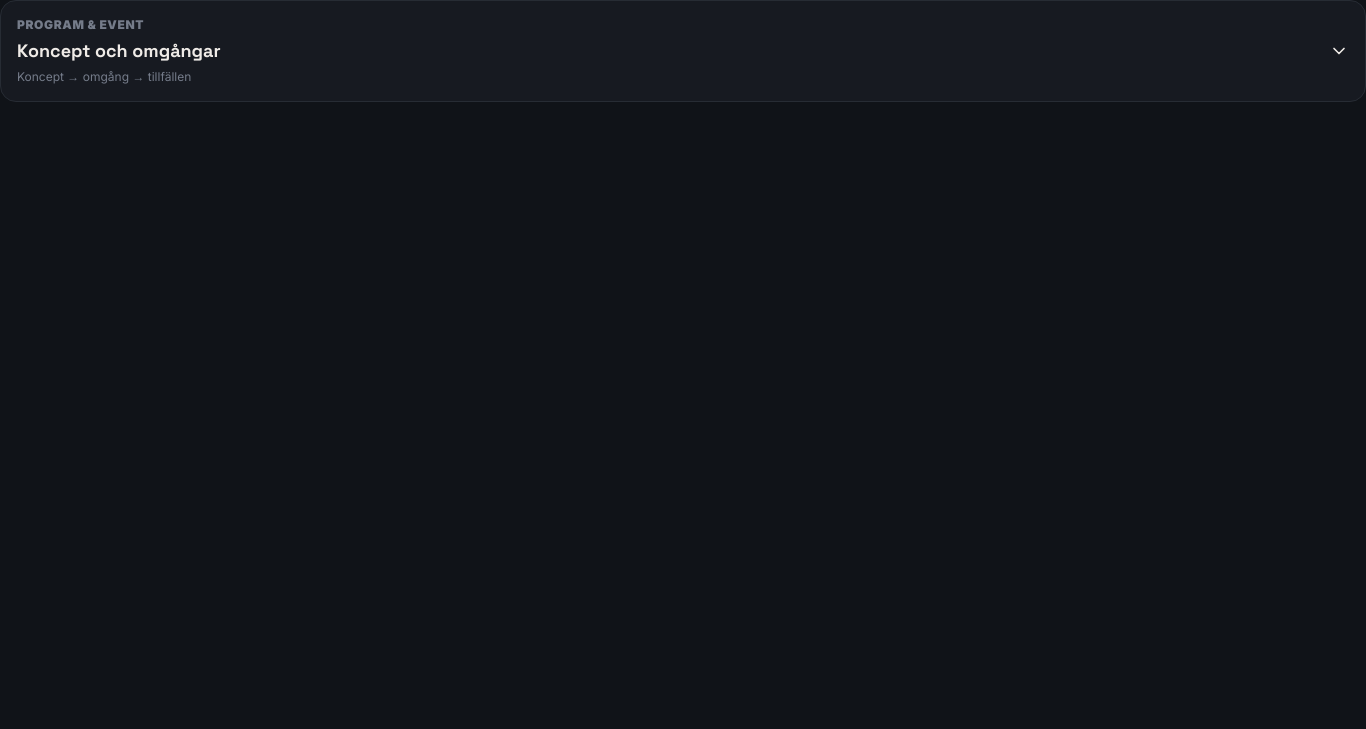
Test case: Course V1 Admin › configures product-owned Open Play access using the canonical occurrence period
Later steps or results of the test are not shown.
Click the button "Program".
click(81, 24)  # box x1=17 y1=17 x2=1349 y2=85
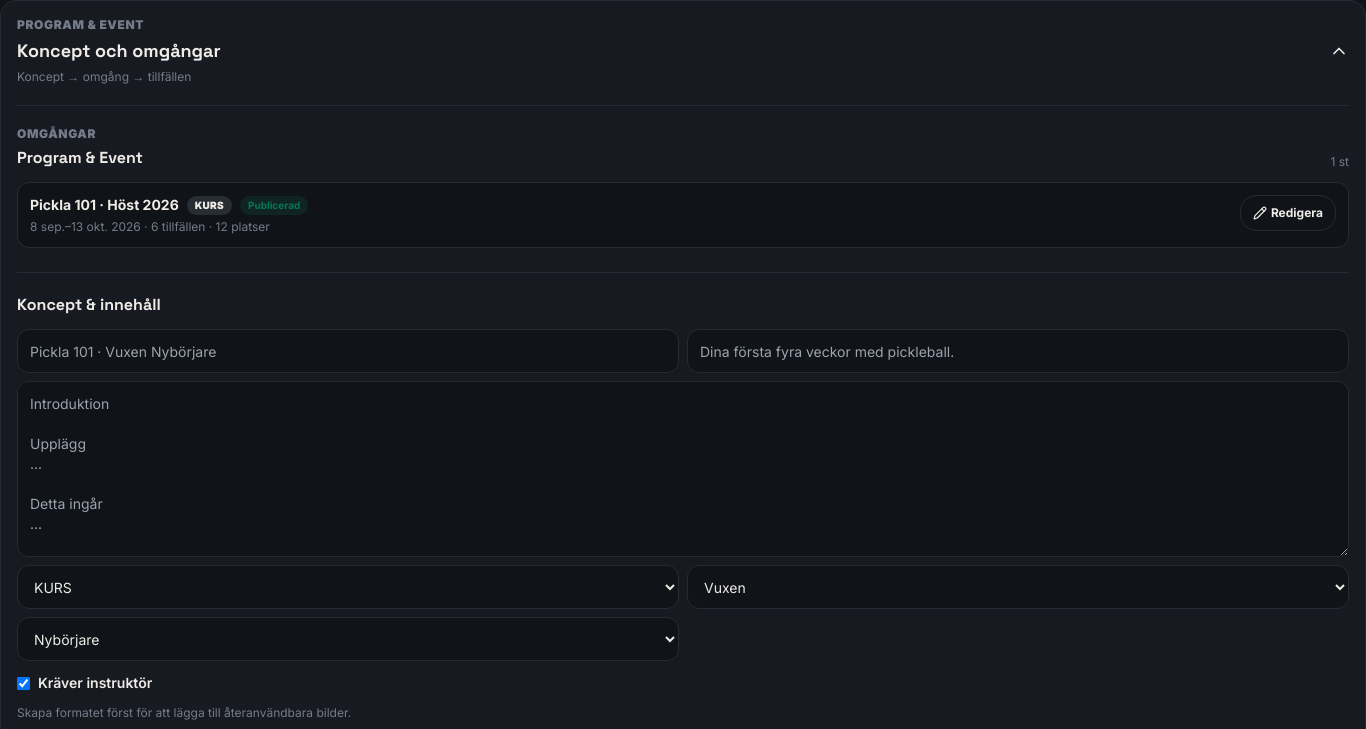
Click the button with aria-label "Redigera omgång Pickla 101 · Höst 2026".
click(1288, 213)  # box x1=1240 y1=195 x2=1336 y2=231
(page scrolled)
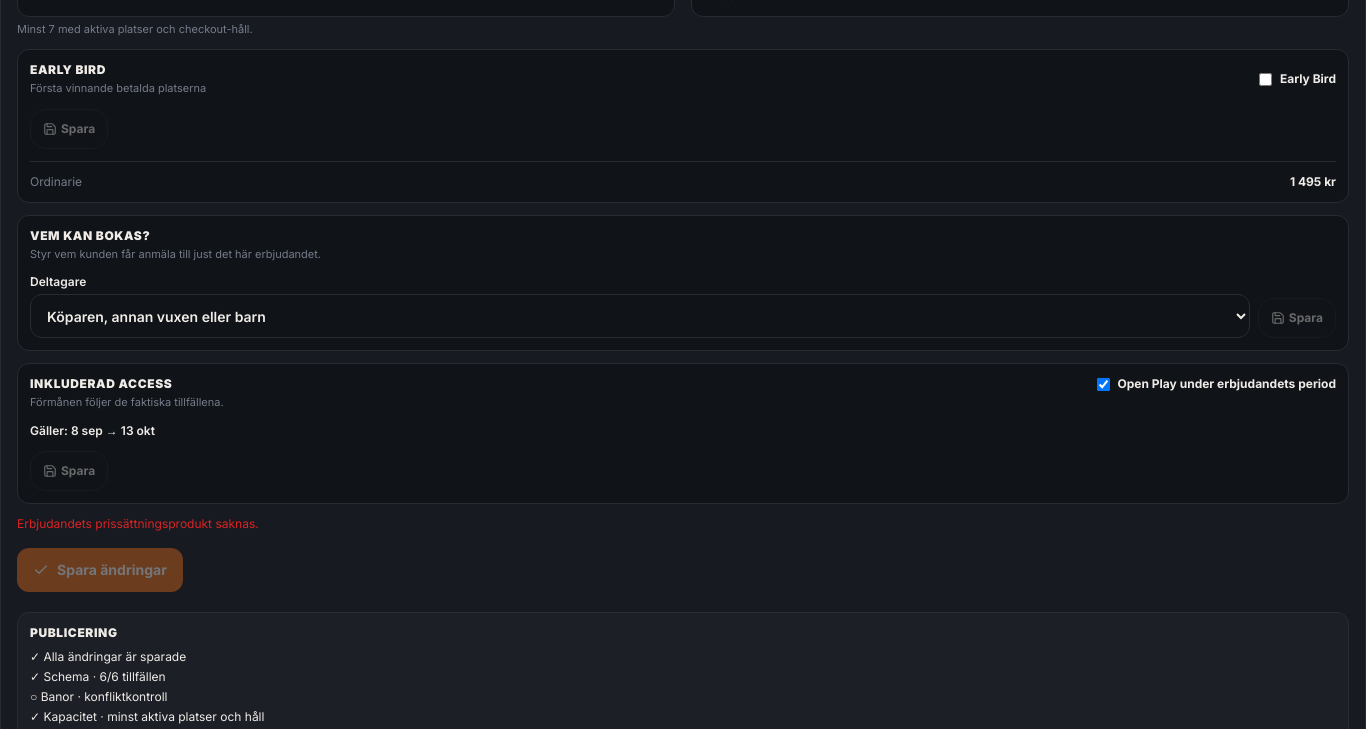
Check: the text "Gäller: 8 sep → 13 okt" is shown, box x1=30 y1=422 x2=155 y2=438
